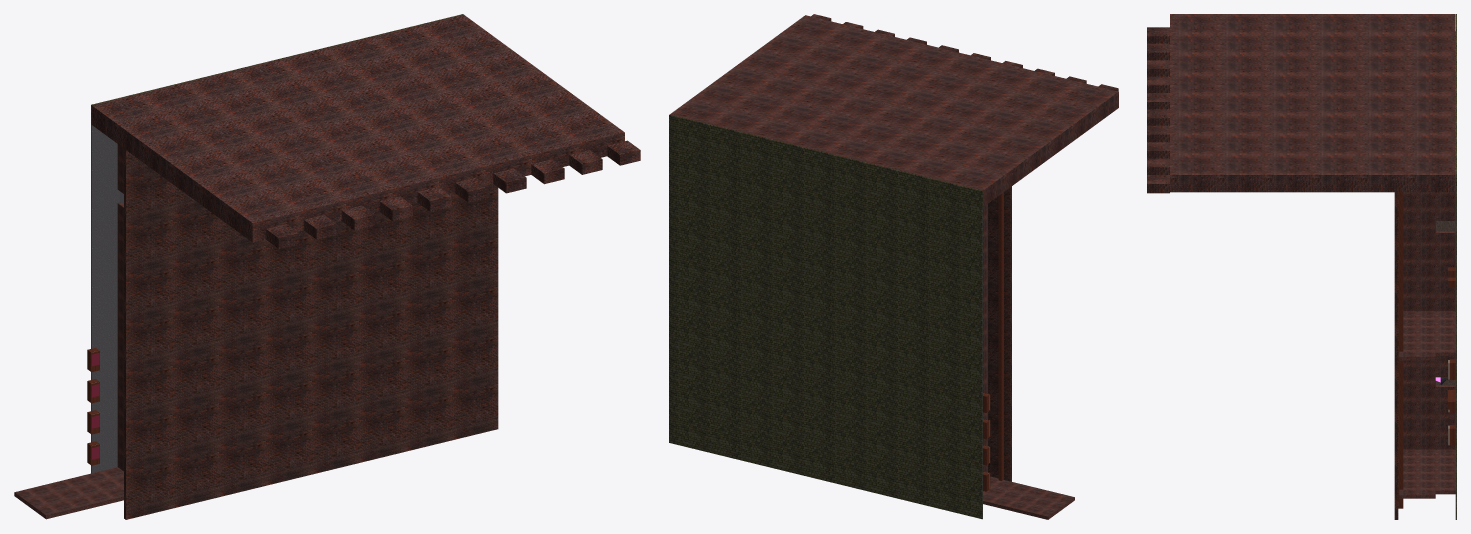
File: keep_t1_4.gltf
The picture shows the model from 3 angles, left to right: view 1: azimuth 30°, elevation 25°; view 2: azimuth 150°, elevation 25°; view 3: azimuth 270°, elevation 25°; orthographic projection. The views are drawn at different scales.
Parts seen in each view (by area): view 1: keep_t1_4_roof, keep_t1_4_wallg, keep_t1_4_floor, keep_t1_4_wall, keep_t1_4_wood; view 2: keep_t1_4_ground, keep_t1_4_wallg, keep_t1_4_roof, keep_t1_4_wall, keep_t1_4_wood; view 3: keep_t1_4_wallg, keep_t1_4_wall, keep_t1_4_wood, keep_t1_4_roof, keep_t1_4_floor, keep_t1_4_ground.
Part boxes in pixels (<box>): keep_t1_4_roof: <box>124,149,498,519</box>; keep_t1_4_wallg: <box>91,14,640,248</box>; keep_t1_4_floor: <box>91,124,119,473</box>; keep_t1_4_wall: <box>14,144,123,519</box>; keep_t1_4_wood: <box>87,348,99,465</box>; keep_t1_4_ground: <box>669,114,982,519</box>; keep_t1_4_wallg: <box>670,14,1118,206</box>; keep_t1_4_roof: <box>988,186,1011,481</box>; keep_t1_4_wall: <box>983,204,1074,519</box>; keep_t1_4_wood: <box>983,192,1003,491</box>; keep_t1_4_wallg: <box>1147,14,1455,193</box>; keep_t1_4_wall: <box>1399,192,1455,498</box>; keep_t1_4_wood: <box>1398,192,1455,508</box>; keep_t1_4_roof: <box>1394,192,1398,519</box>; keep_t1_4_floor: <box>1455,31,1456,519</box>; keep_t1_4_ground: <box>1456,14,1456,519</box>.
Bounding box in the file's own units: 48.59 × 40 × 32.54.
14 materials, 7 textured.
